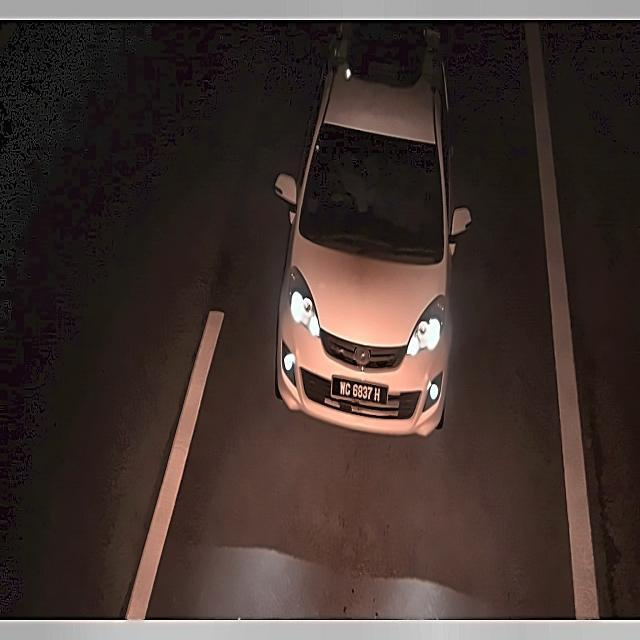car: (330, 367, 394, 411)
